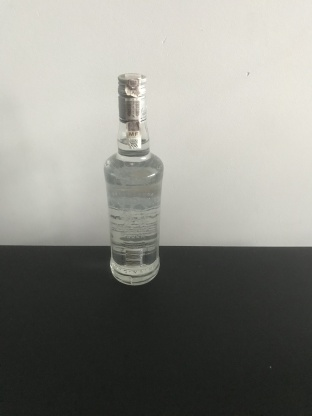nakretka: (116, 70, 148, 124)
